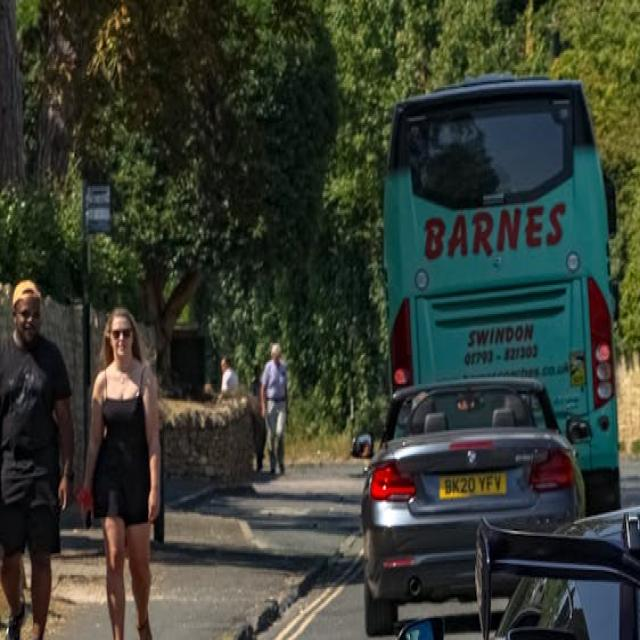bus: (380, 70, 621, 504)
car: (350, 378, 586, 632), (394, 486, 640, 640)
